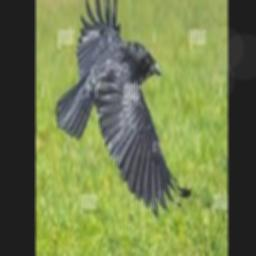Crow: (56, 0, 192, 218)
